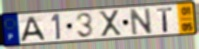1: (49, 12, 62, 41)
3: (75, 12, 95, 38)
A: (19, 15, 47, 43)
N: (128, 7, 154, 36)
T: (156, 6, 174, 33)
X: (98, 9, 124, 39)
